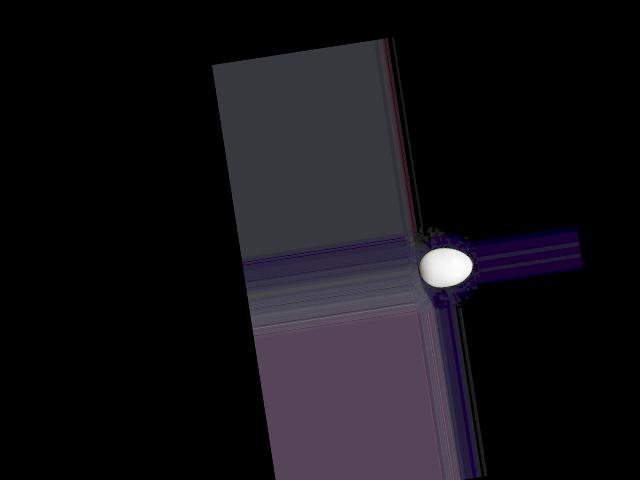egg: (416, 244, 474, 290)
